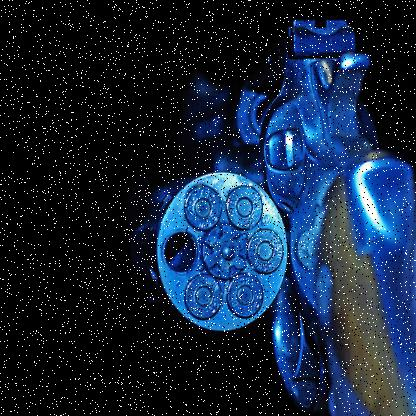pistol: (135, 18, 415, 413)
